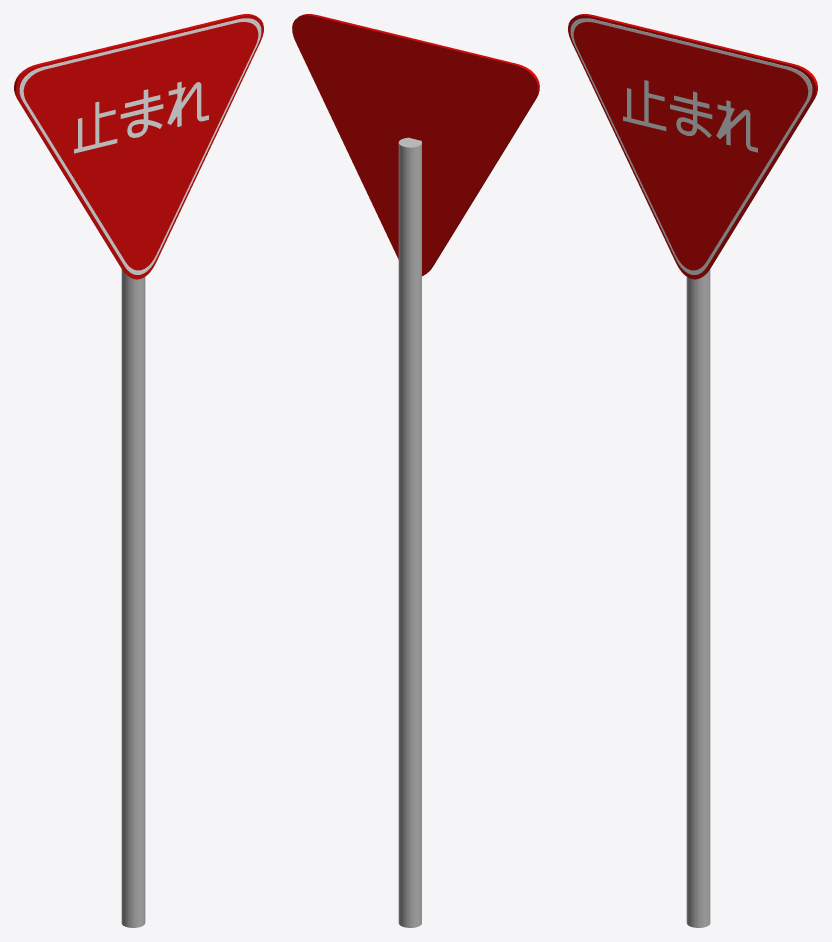
Rendered from stopsign.obj.
3 renders of one model, left to right at view 1: azimuth 30°, elevation 25°; view 2: azimuth 150°, elevation 25°; view 3: azimuth 330°, elevation 25°, orthographic.
Parts seen in each view (by area): view 1: Cube_Cube.002, Cylinder, Cube.002_Cube.001, Cube.001_Cube.000, Text; view 2: Cube.002_Cube.001, Cylinder; view 3: Cube_Cube.002, Cylinder, Cube.002_Cube.001, Cube.001_Cube.000, Text.
Boxes of the visible parts, x1,y1,x2,y2 form: Cube_Cube.002: [23, 22, 258, 270]; Cylinder: [121, 269, 145, 927]; Cube.002_Cube.001: [14, 14, 263, 279]; Cube.001_Cube.000: [19, 18, 261, 274]; Text: [74, 81, 208, 153]; Cube.002_Cube.001: [292, 14, 539, 276]; Cylinder: [398, 137, 421, 927]; Cube_Cube.002: [573, 22, 808, 270]; Cylinder: [686, 269, 710, 927]; Cube.002_Cube.001: [568, 14, 817, 279]; Cube.001_Cube.000: [570, 18, 812, 274]; Text: [623, 80, 757, 152].
Size of the model in its own units: 0.7251 by 2.48 by 0.0711.
